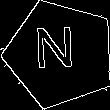N_S: (38, 28, 82, 81)
